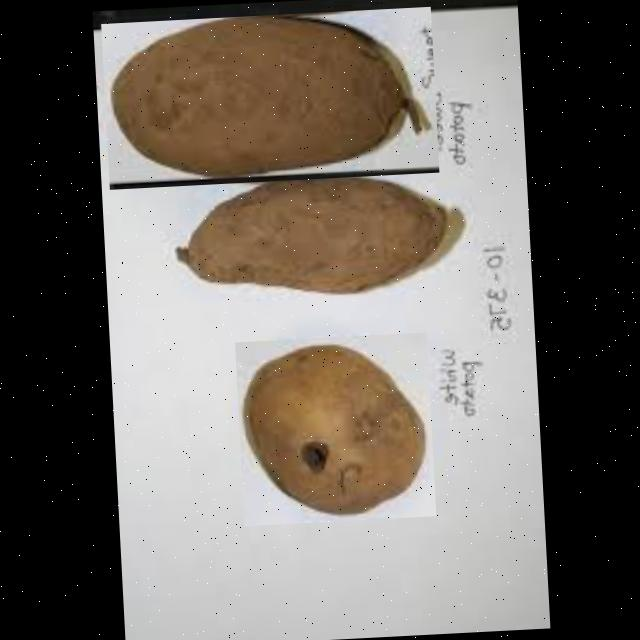Damaged potato: (100, 7, 438, 190), (168, 171, 478, 312), (234, 332, 435, 526)
